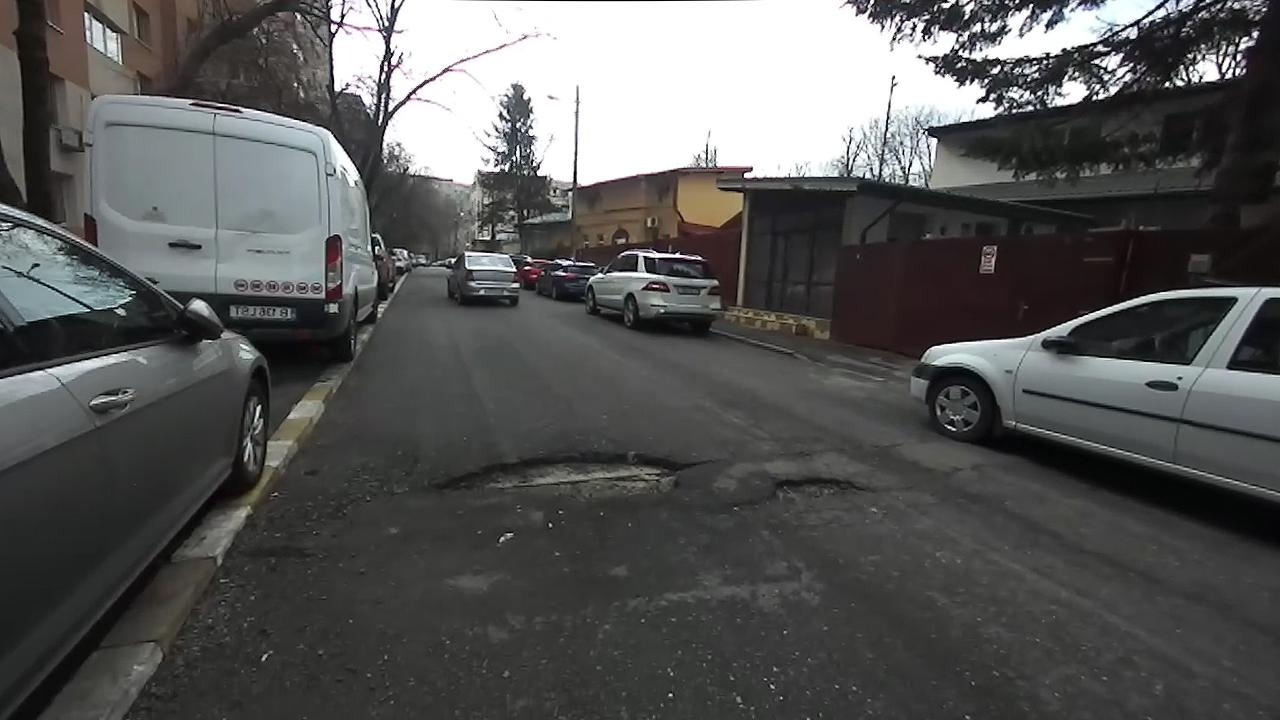pothole: (420, 446, 697, 505), (730, 470, 869, 511)
